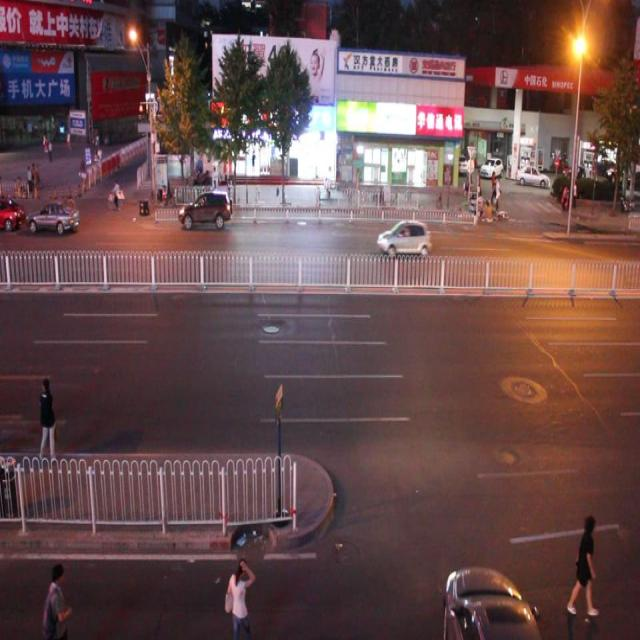car: (442, 563, 540, 640), (177, 185, 232, 227), (26, 196, 81, 237), (376, 218, 430, 256)
